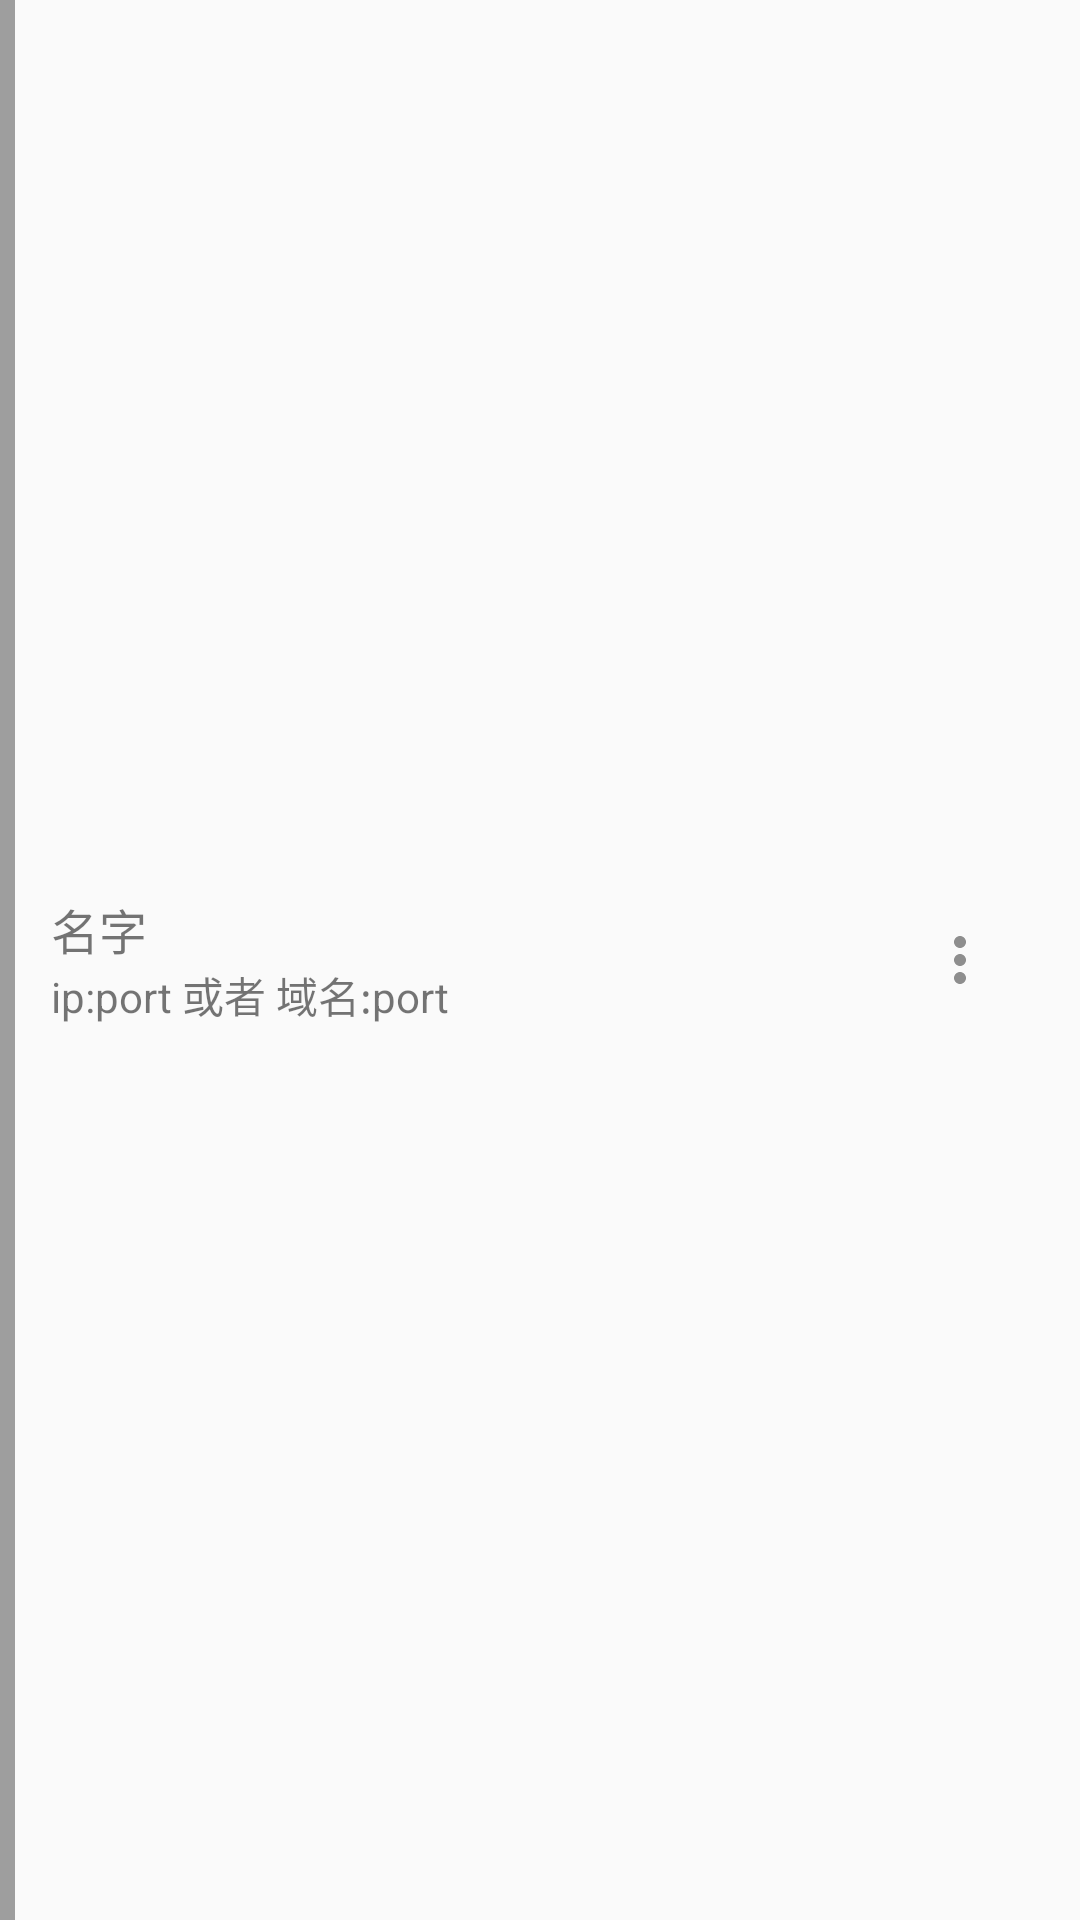

Point at icon controls on the screen. Image size 1080 × 1920, points as (x,y).
more vert: (960,960)
